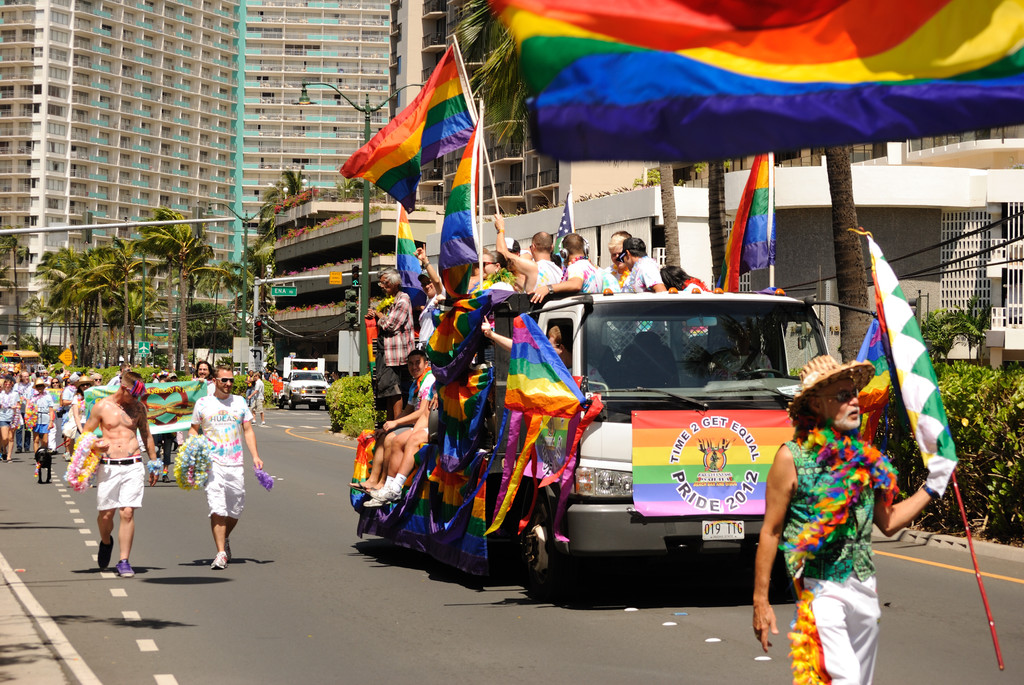Car: (273, 372, 332, 413)
